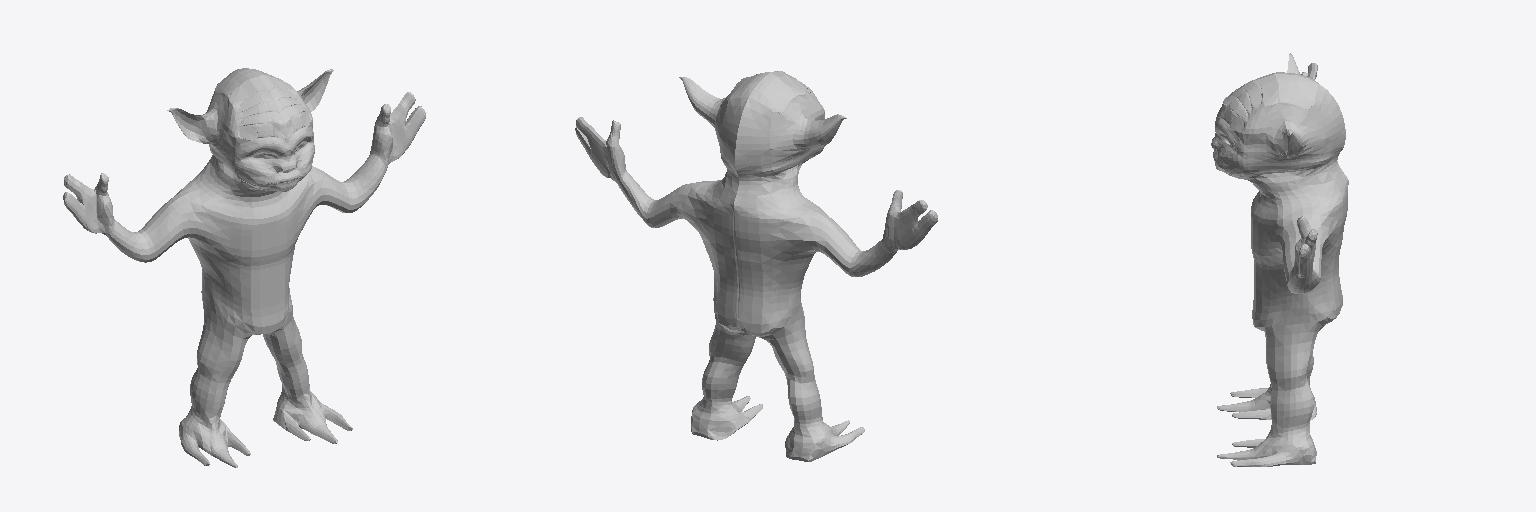
Rendered from Yoda_again_export.obj.
3 renders of one model, left to right at view 1: azimuth 30°, elevation 25°; view 2: azimuth 150°, elevation 25°; view 3: azimuth 270°, elevation 25°, orthographic.
Parts seen in each view (by area): view 1: Plane; view 2: Plane; view 3: Plane.
Boxes of the visible parts, x1=… form: Plane: x1=63, y1=68, x2=425, y2=467; Plane: x1=575, y1=71, x2=937, y2=461; Plane: x1=1211, y1=53, x2=1348, y2=466.
Size of the model in its own units: 15.89 by 15.28 by 5.24.